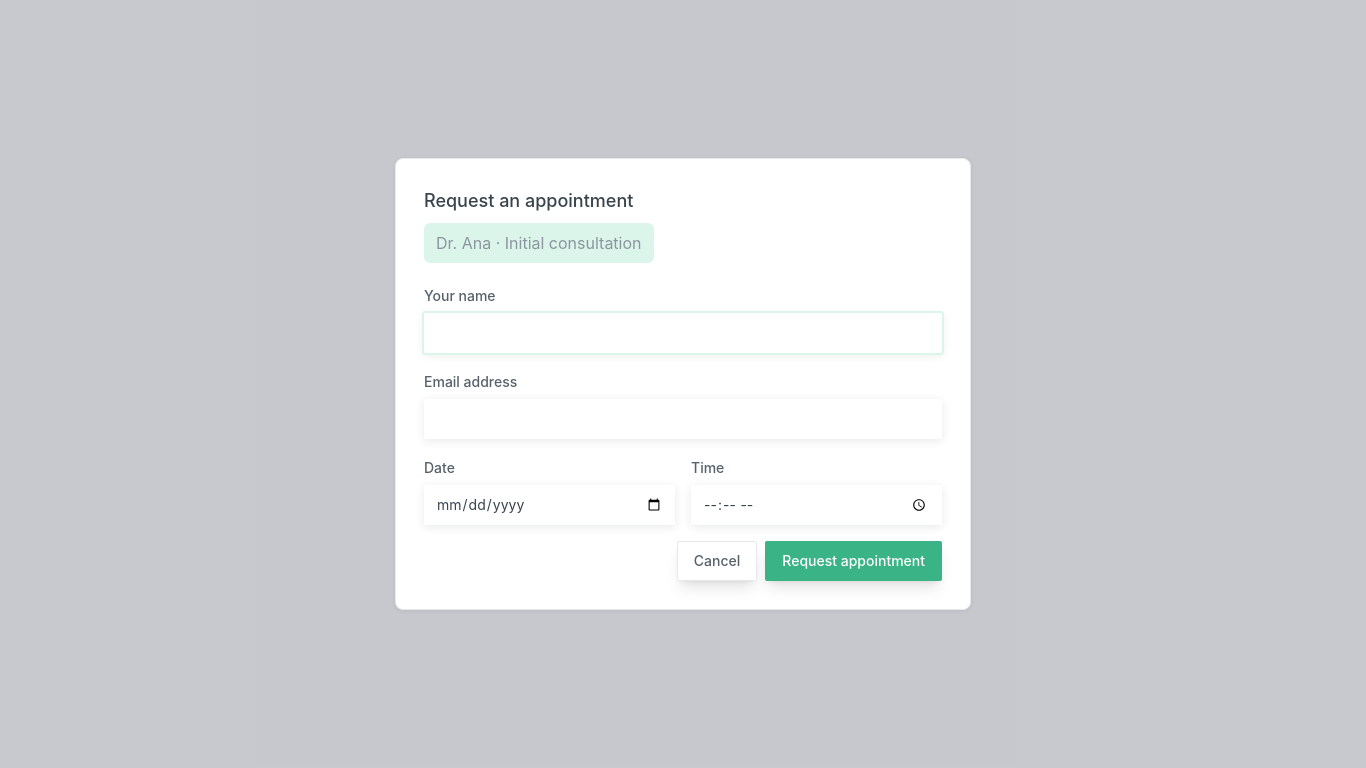
Test case: AppointmentRequestModal › shows schema messages while typing instead of object values
The width and height of the screenshot is (1366, 768).
Expected: the button "Request appointment" is enabled, [765,541,942,581]
Type "A" into the field labelled "Your name".
click(683, 333); type("A")  # box [424,313,942,353]
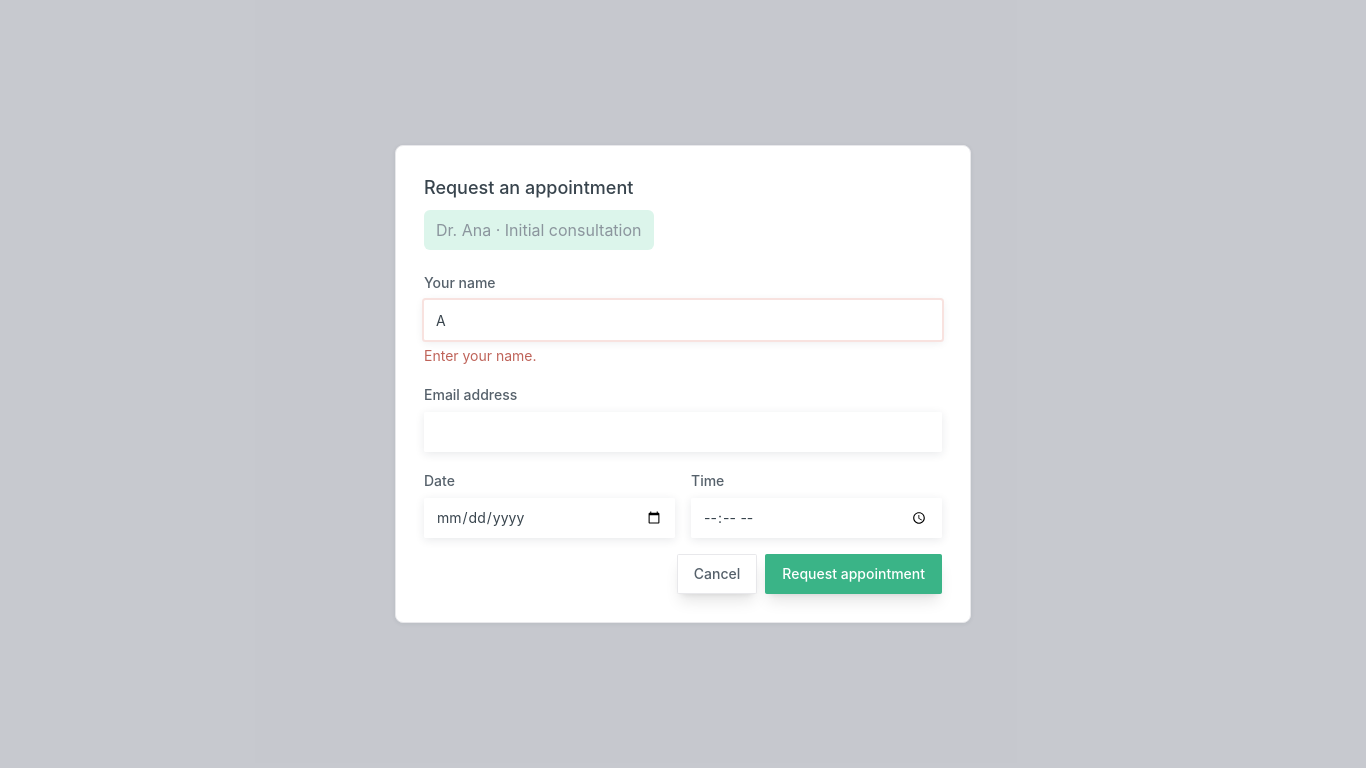
Result: the text "Enter your name." is shown at [424,347,537,364]
